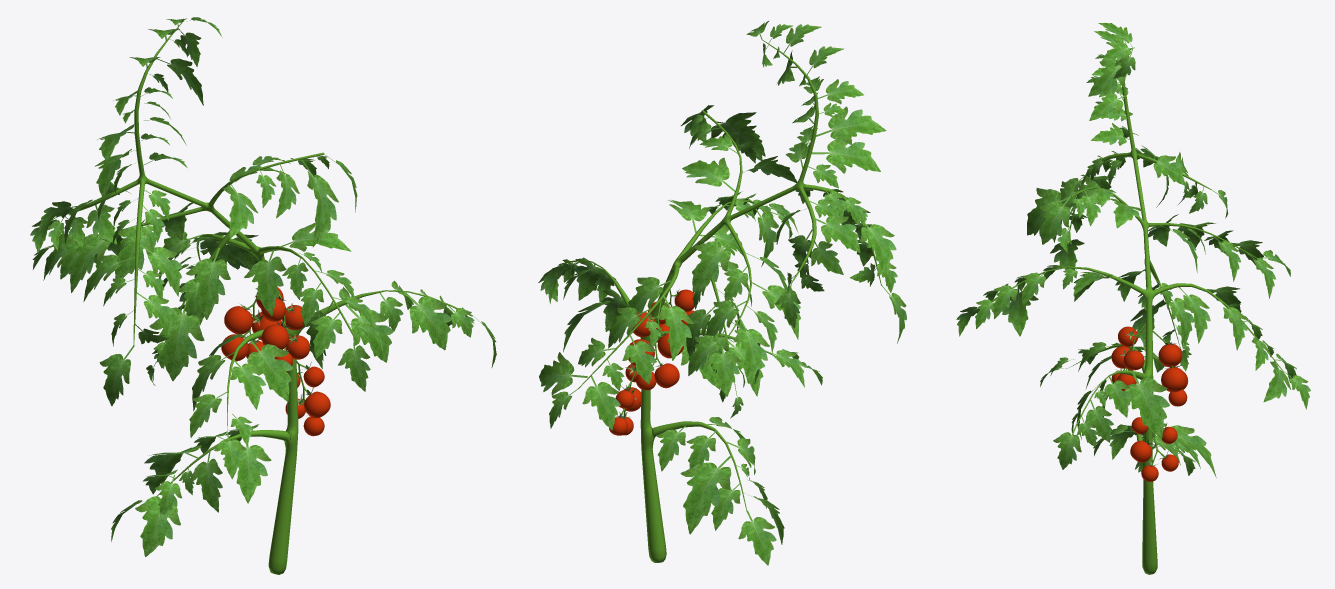
File: tomato_plant_2.glb
3 renders of one model, left to right at view 1: azimuth 30°, elevation 25°; view 2: azimuth 150°, elevation 25°; view 3: azimuth 270°, elevation 25°, orthographic. The views are drawn at different scales.
Parts seen in each view (by area): view 1: tomato_leaf_1.029; view 2: tomato_leaf_1.029; view 3: tomato_leaf_1.029.
Boxes of the visible parts, x1,y1,x2,y2 form: tomato_leaf_1.029: (30, 17, 496, 574); tomato_leaf_1.029: (538, 21, 906, 565); tomato_leaf_1.029: (956, 23, 1310, 574).
Size of the model in its own units: 107 by 150 by 103.
4 materials, 4 textured.
